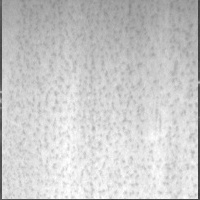pitted_surface: (2, 0, 198, 199)
scratches: (4, 87, 197, 116), (55, 152, 157, 169), (152, 76, 200, 89)
